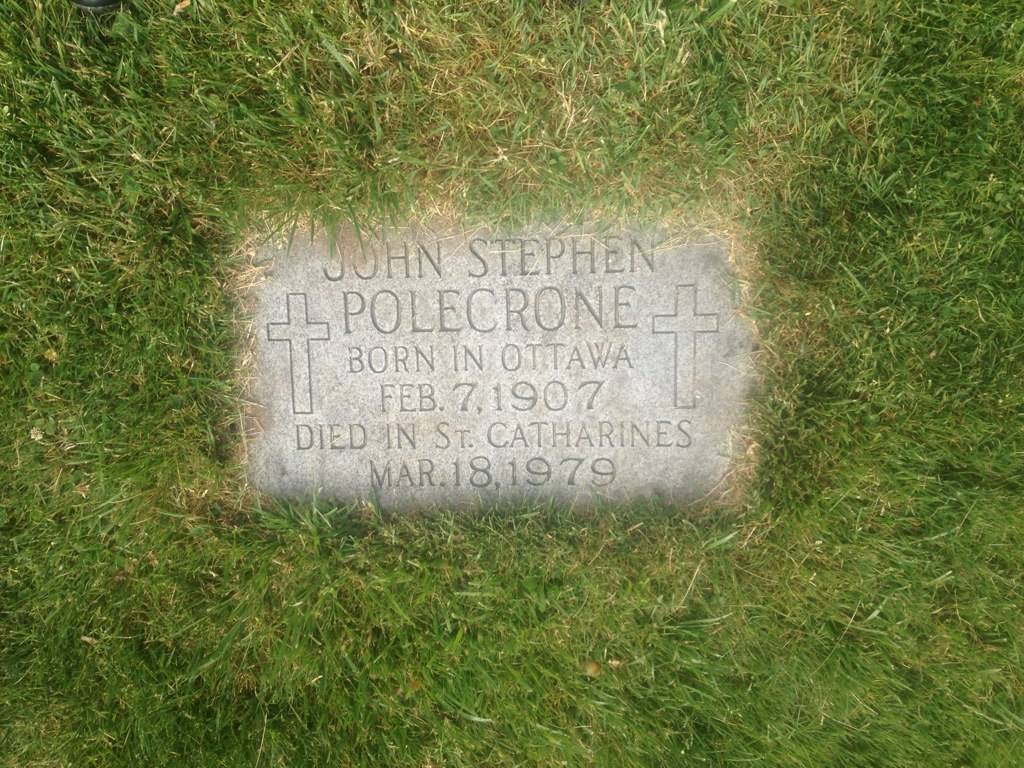flat: (207, 179, 772, 540)
